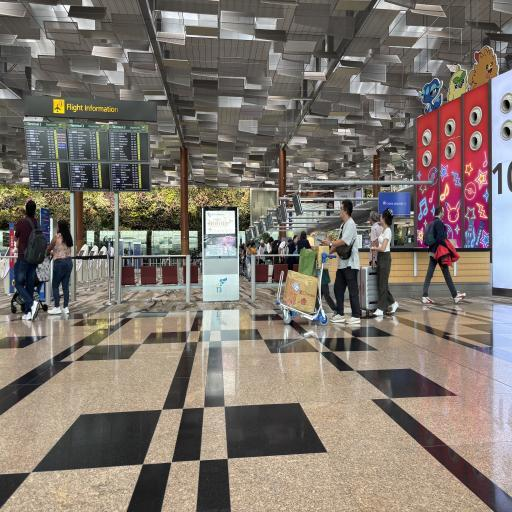person_with_luggage_left: (358, 204, 402, 322), (284, 269, 328, 325), (334, 261, 357, 314), (331, 217, 356, 263), (333, 306, 359, 323)
